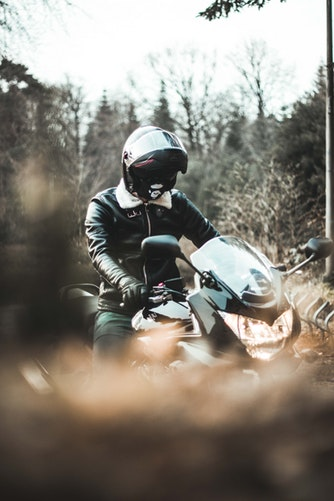helmet: (112, 128, 195, 198)
